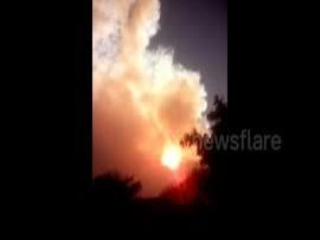smoke: (102, 16, 204, 146)
